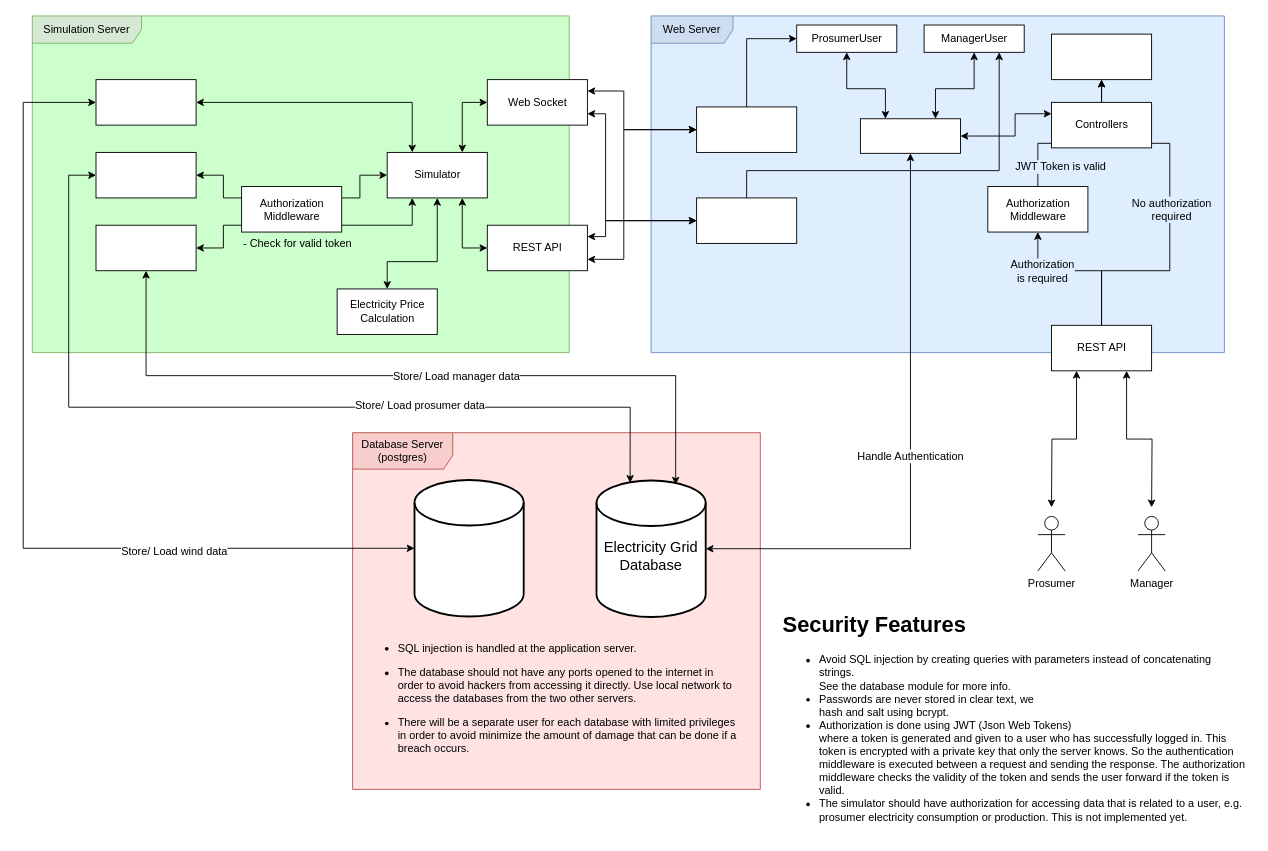
Some shapes in this 1268 by 851 pixel diagram are drawn without their labels. Each missing label, with the centre of its shape:
Abstract User: the point at 910,135
Climate Database: the point at 468,548
Coal Power Plant Simulator: the point at 145,247
Manager Dashboard: the point at 746,220
Prosumer Dashboard: the point at 746,129
Prosumer Simulator: the point at 145,175
Views: the point at 1101,56
Wind Simulator: the point at 145,102
